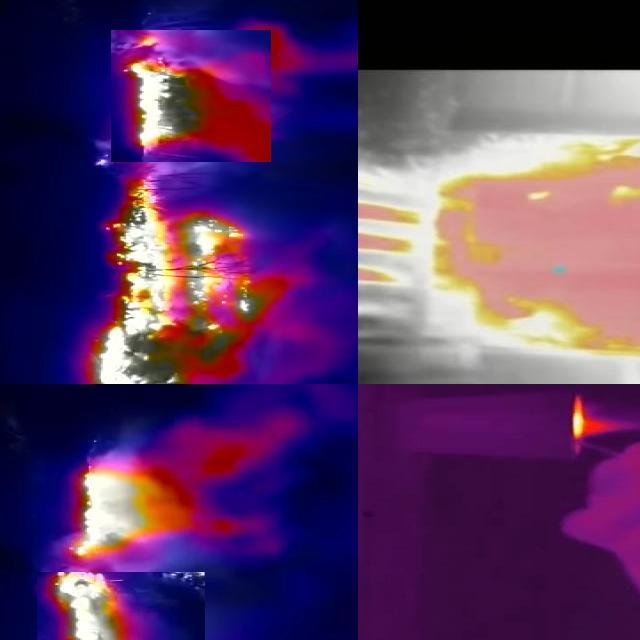fire: (428, 118, 640, 385), (89, 178, 297, 385), (111, 31, 271, 163), (68, 455, 206, 562), (571, 396, 640, 448)
